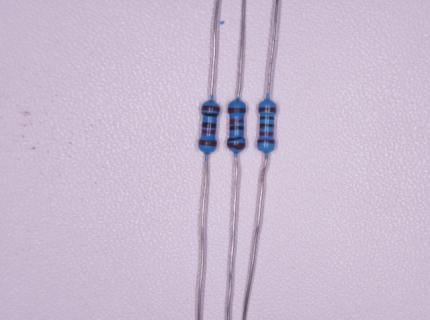Black band: (201, 122, 216, 128), (228, 137, 244, 142), (202, 113, 218, 118), (260, 116, 275, 120), (260, 124, 274, 128), (230, 126, 244, 130)
Brown band: (199, 140, 217, 147), (227, 143, 245, 150), (202, 105, 220, 111), (259, 107, 276, 113), (228, 108, 245, 112), (258, 140, 274, 143)
Red band: (201, 130, 216, 135), (230, 120, 244, 125), (260, 132, 274, 136)
